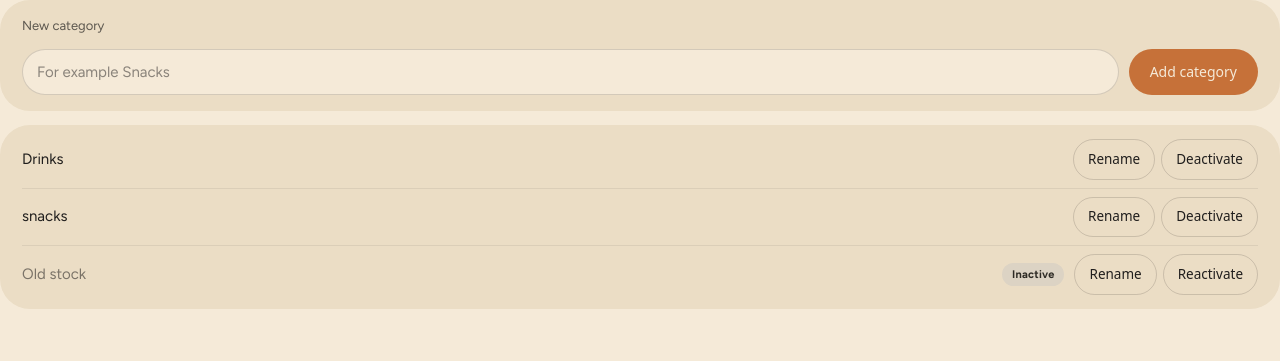
Test: Products > Categories (PROD-03) › owner adds a category, trimmed
In the field labelled "New category": (570, 72) [22, 49, 1119, 95], type "  Frozen  "
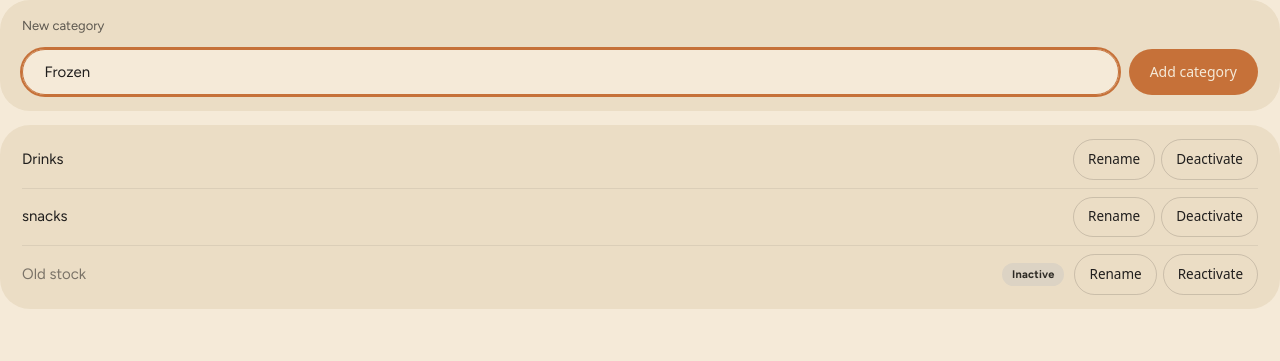
Click the button "Add category": click(1193, 72) [1129, 49, 1258, 95]
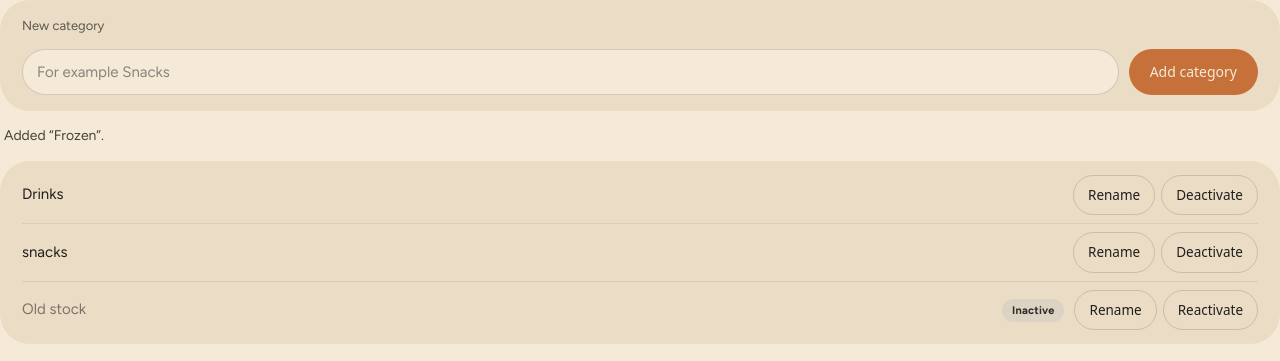
Result: the text "Added “Frozen”." is shown at [4, 127, 104, 144]
